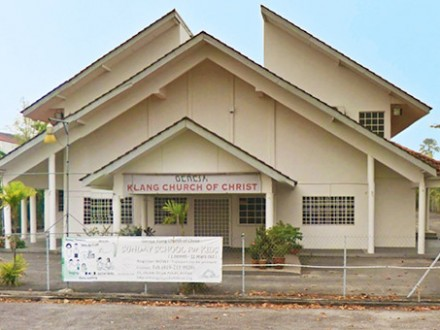Church: (24, 16, 420, 259)
